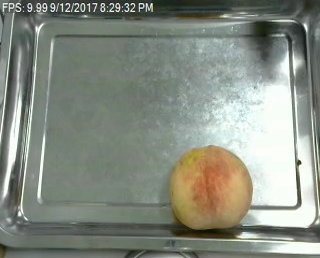Peach: (168, 144, 252, 230)
